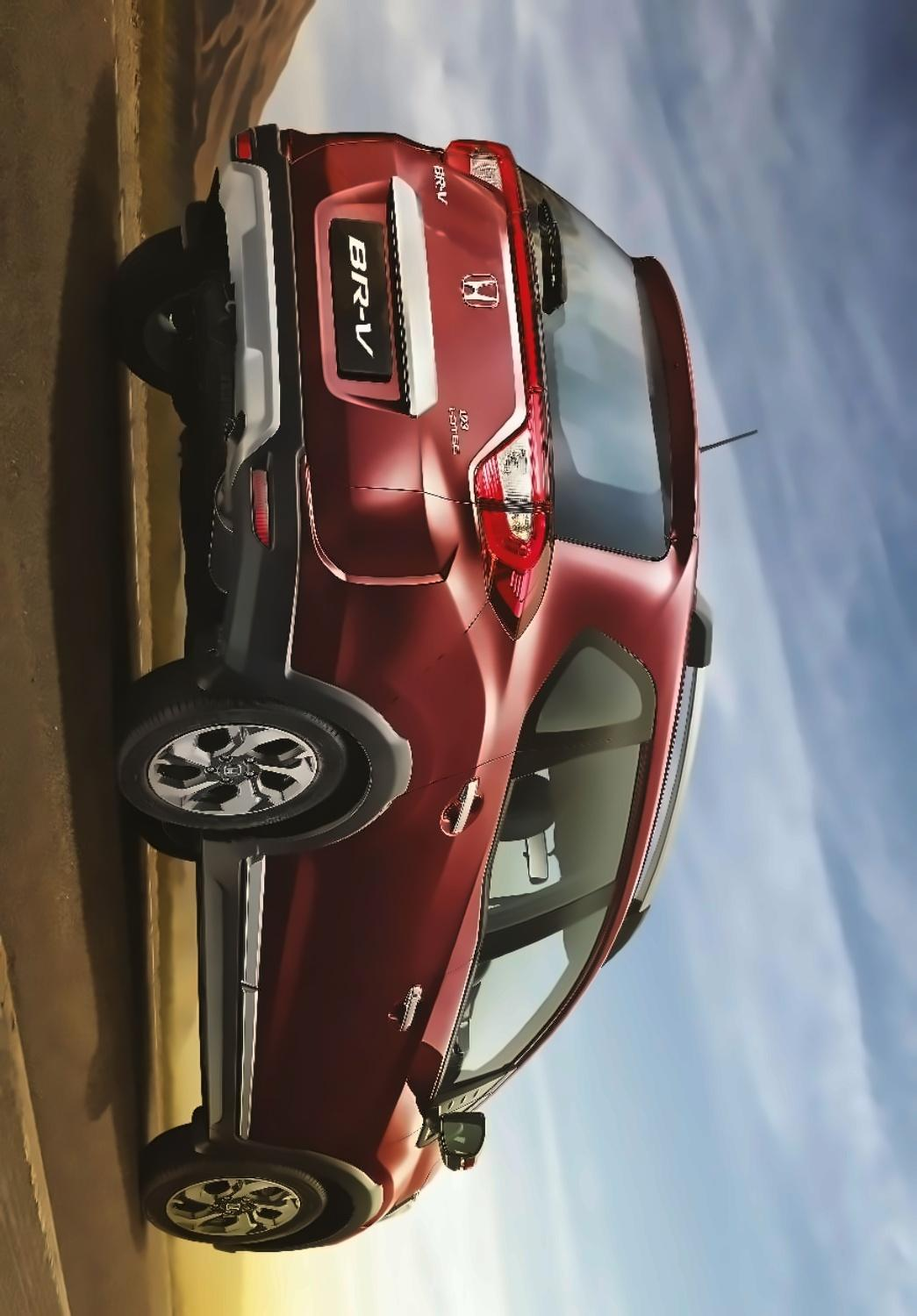Car boot: (274, 117, 685, 567)
Driver-s door - -F-R-: (224, 946, 635, 1161)
Fender - -F-R-: (200, 1125, 441, 1232)
Fender - -R-R-: (283, 549, 623, 810)
Front bumper: (204, 1191, 406, 1286)
Passenger-s door - -R-R-: (222, 731, 687, 983)
Rear bumper: (202, 110, 459, 700)
Rear light - -L-: (419, 117, 539, 240)
Rear light - -R-: (472, 399, 585, 654)
Side bumper - -R-: (180, 823, 286, 1171)
Side mirror - -R-: (417, 1093, 513, 1200)
